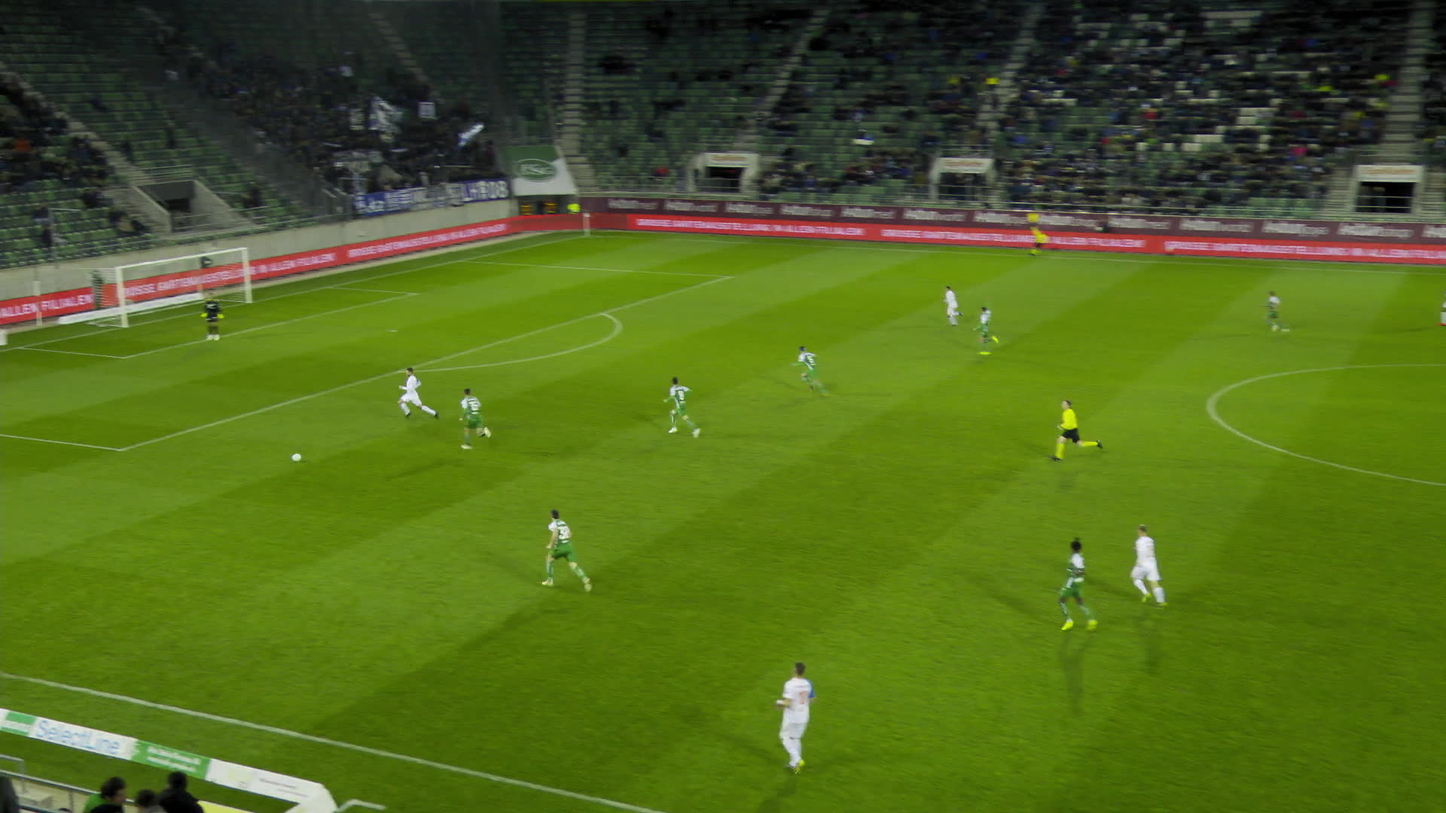ball: (289, 453, 299, 461)
player: (769, 659, 813, 776), (1053, 539, 1092, 630), (1124, 525, 1164, 603), (544, 511, 575, 596), (457, 388, 487, 455), (963, 303, 1004, 350), (664, 377, 693, 436), (1252, 290, 1286, 333), (794, 345, 825, 389), (403, 367, 427, 423), (935, 285, 966, 323), (195, 295, 218, 340), (1435, 302, 1445, 325)
referee: (1048, 397, 1088, 460), (1014, 224, 1041, 252)
